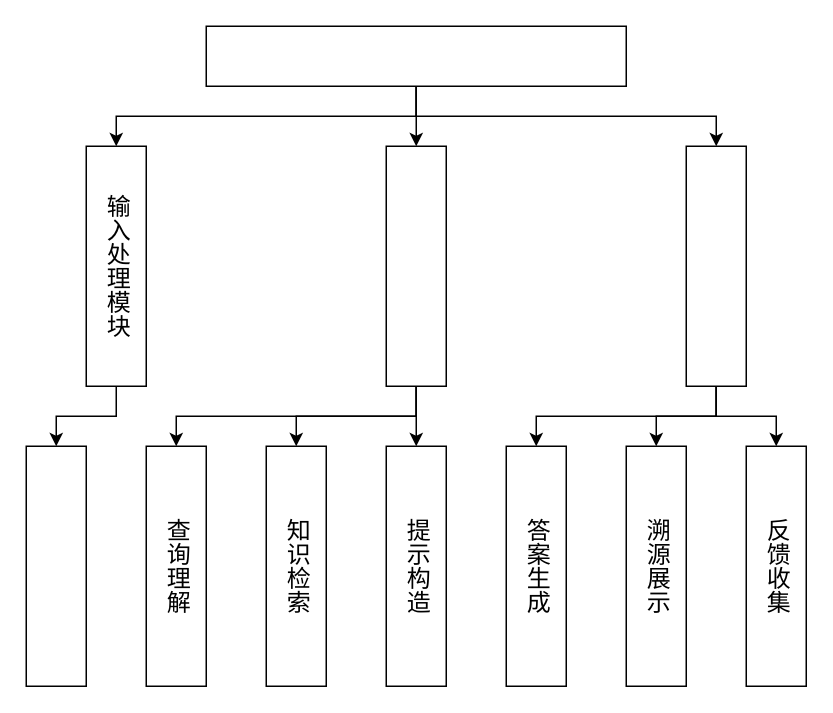
Some shapes in this 833 by 713 pixel diagram are drawn without their labels. The centre of each missing label's shape, as x and y in pixels:
"RAG引擎模块" belongs at [415,265].
"多模态输入" belongs at [55,565].
"应答与反馈模块" belongs at [715,265].
"智能问答助手" belongs at [415,55].
